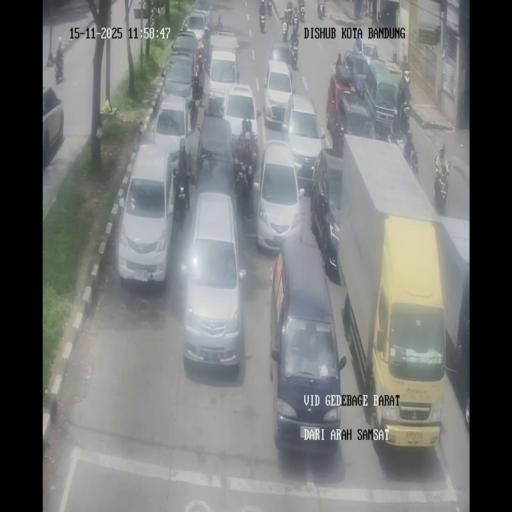car: (269, 237, 343, 451), (181, 192, 247, 370), (118, 144, 178, 286), (282, 92, 325, 188), (313, 148, 344, 274), (194, 112, 237, 190), (335, 89, 376, 156), (162, 56, 197, 122), (207, 48, 240, 116), (263, 58, 294, 127), (42, 86, 64, 165), (343, 51, 371, 95), (183, 10, 210, 46)
motorcycle: (234, 152, 255, 215), (172, 173, 188, 224), (434, 164, 449, 210), (402, 142, 419, 176), (192, 65, 204, 113), (398, 73, 412, 110), (388, 112, 404, 143), (289, 31, 299, 67), (202, 36, 212, 70), (55, 62, 65, 84), (284, 3, 292, 25), (402, 103, 411, 121), (259, 10, 266, 33), (282, 19, 289, 42), (215, 15, 223, 33), (292, 7, 298, 30), (320, 0, 326, 19), (299, 3, 305, 21), (376, 8, 382, 22), (268, 2, 272, 16)
truck: (335, 139, 457, 447), (446, 266, 469, 437), (132, 0, 151, 19)
